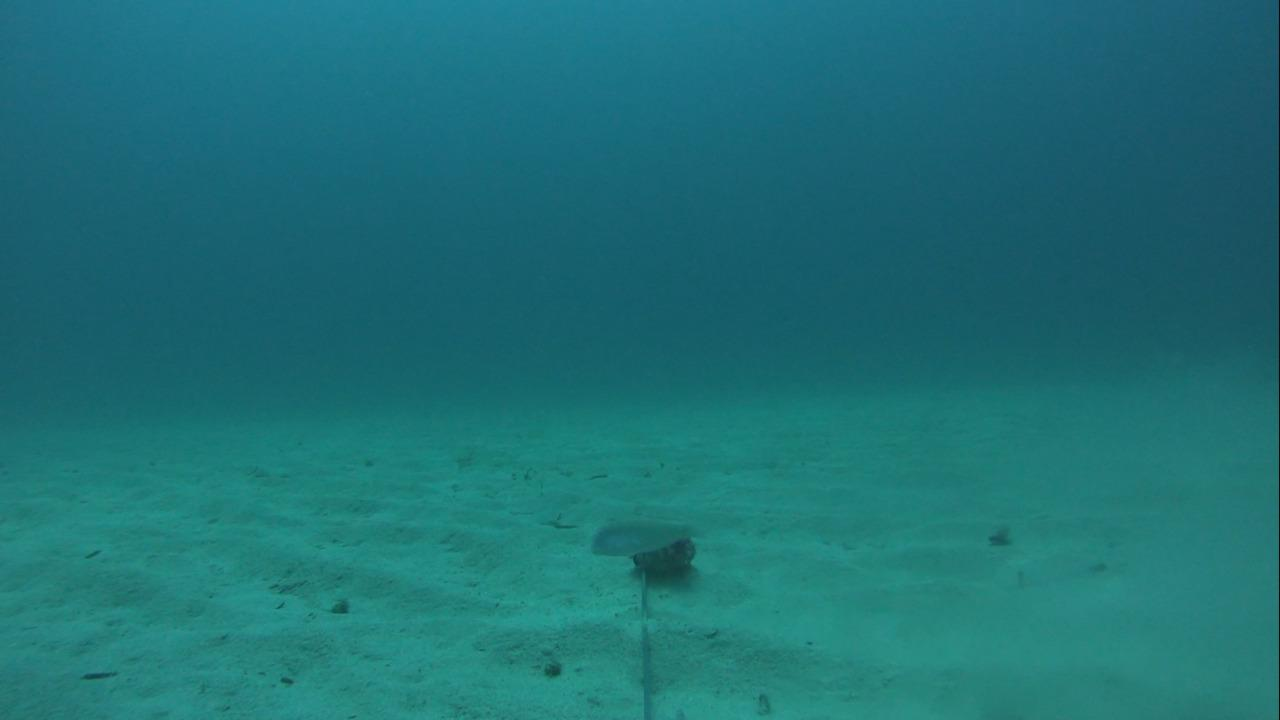raor: (584, 514, 699, 562)
